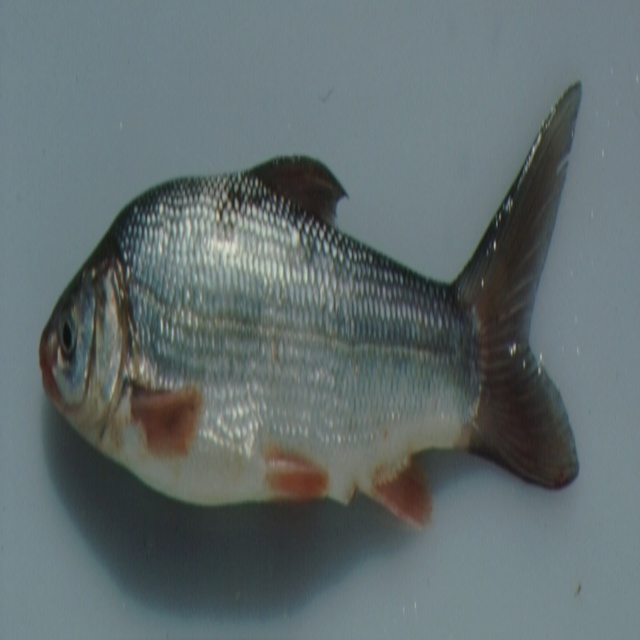Fish: (39, 78, 580, 527)
